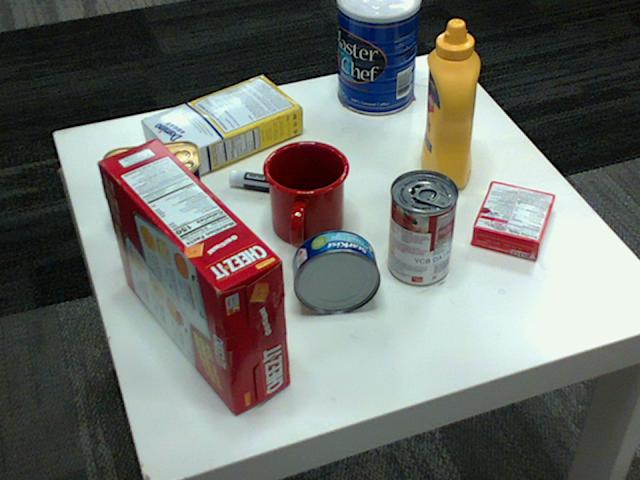cracker_box: (96, 137, 290, 412)
gelatin_box: (472, 181, 555, 260)
large_marker: (227, 172, 330, 198)
master_chef_can: (336, 0, 419, 114)
mug: (263, 137, 351, 245)
mustard_bottle: (421, 20, 479, 188)
potted_meat_can: (103, 140, 205, 237)
sugar_box: (142, 73, 304, 179)
tomato_soup_can: (388, 169, 458, 285)
tuna_fish_can: (293, 230, 381, 312)
